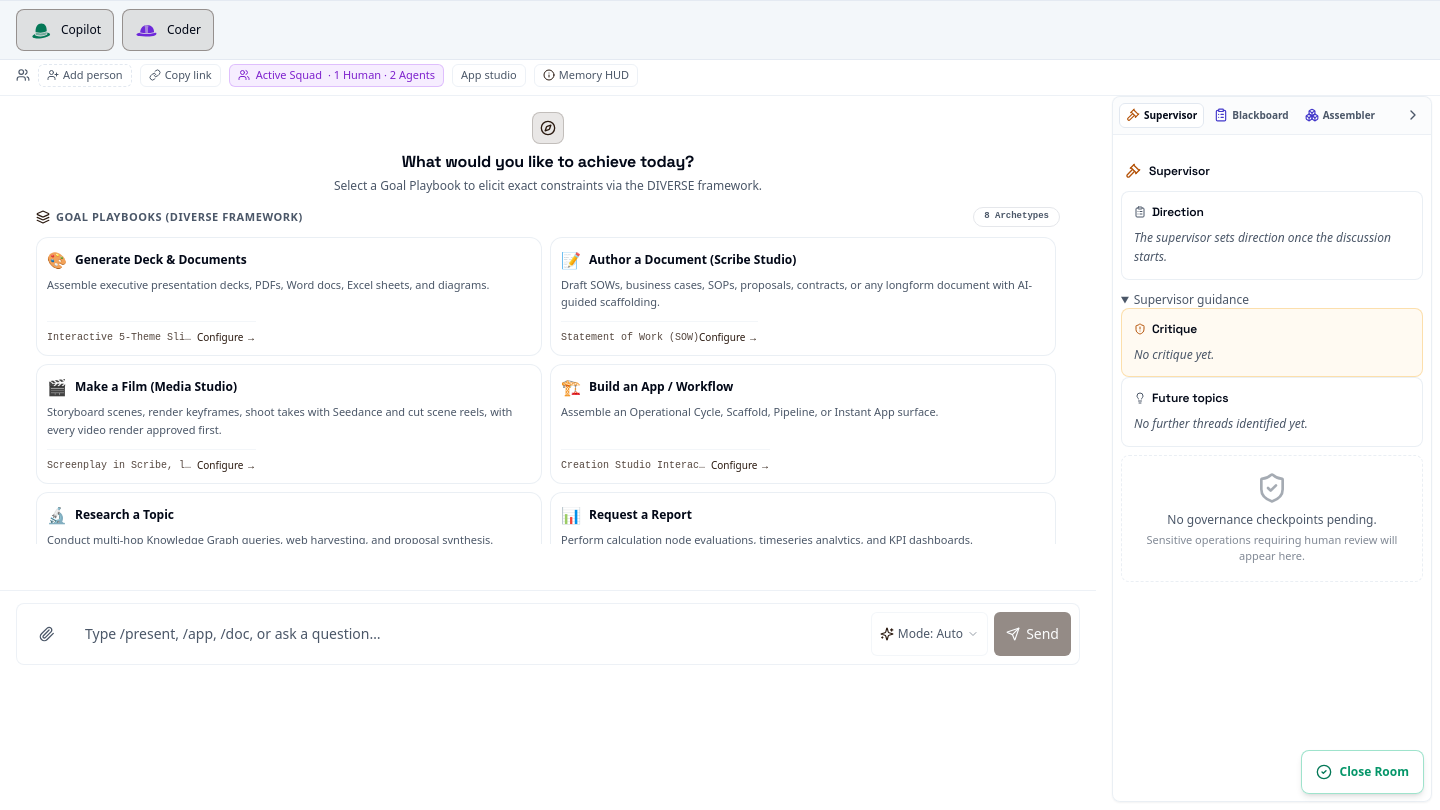
Test case: Crew composer @-mention intellisense › dismisses suggestions when Escape is pressed
Type "Ping @Cod" into the text box with test id "crew-composer" at (470, 634), box [77,612,863,656]
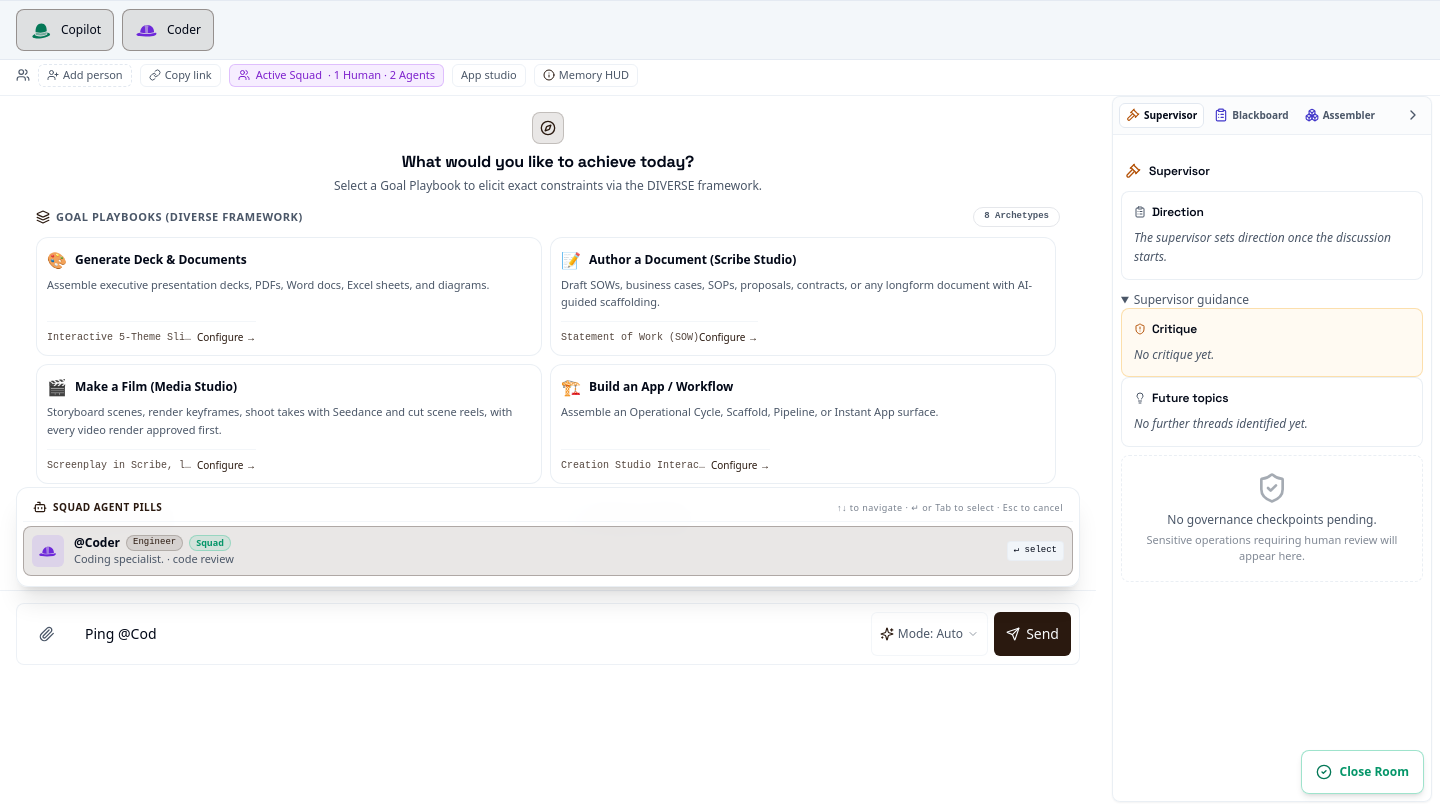
Check: the element with test id "crew-mention-popover" is shown, box [16,487,1080,587]
Press Escape in the text box with test id "crew-composer", box [77,612,863,656]
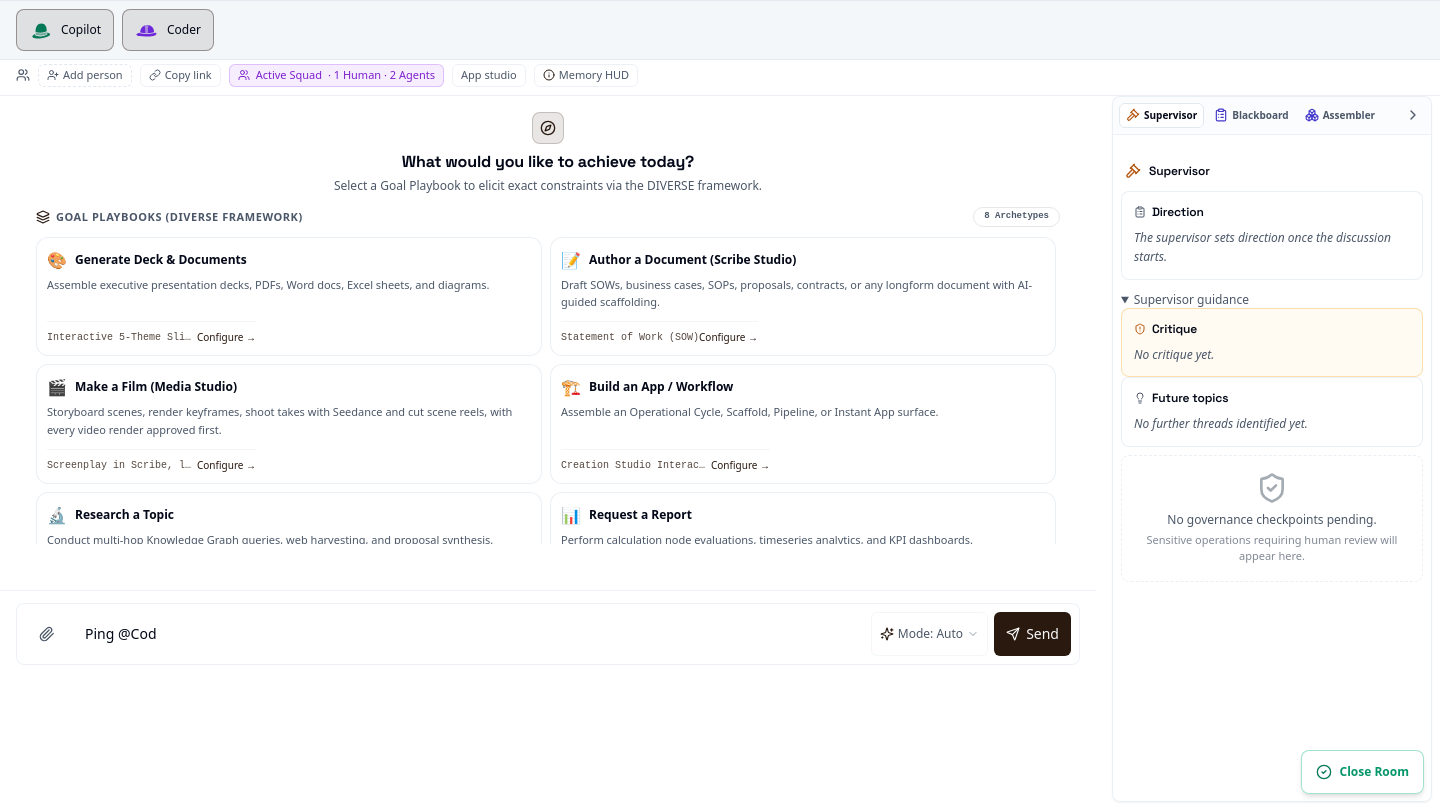
Check: the element with test id "crew-mention-popover" is gone
